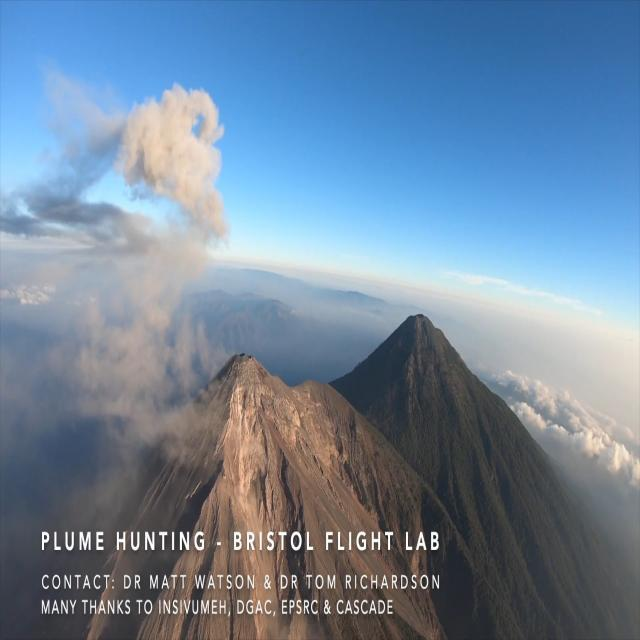Summit: (125, 348, 353, 524)
